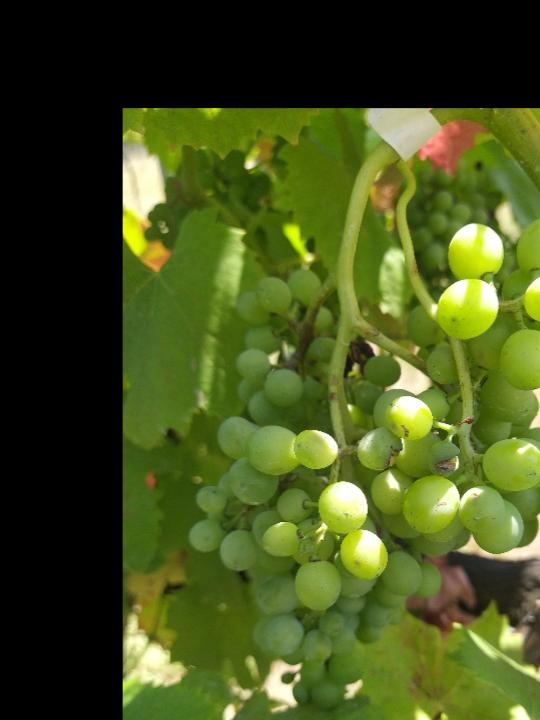grape: (186, 216, 540, 711)
